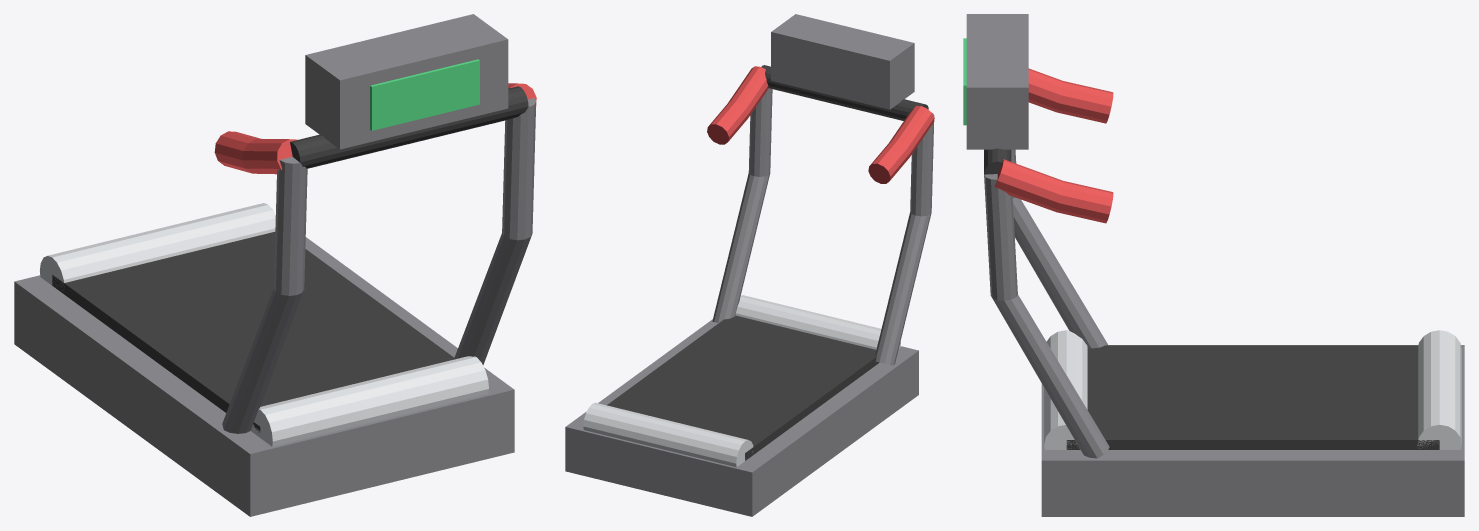
The model's file is Treadmill.fbx.
3 renders of one model, left to right at view 1: azimuth 30°, elevation 25°; view 2: azimuth 150°, elevation 25°; view 3: azimuth 270°, elevation 25°, orthographic. The views are drawn at different scales.
Parts seen in each view (by area): view 1: Base, Belt, Console, RollerFront, Upright, Upright.001, RollerBack, Screen, Crossbar, SideGrip; view 2: Base, Belt, Console, Upright, RollerBack, Upright.001, RollerFront, SideGrip, SideGrip.001, Crossbar; view 3: Belt, Base, Console, Upright.001, RollerBack, Upright, SideGrip.001, RollerFront, SideGrip, Crossbar.
Part boxes in pixels (x1,y1,x2,y2): Base: [14, 237, 514, 516]; Belt: [52, 232, 454, 432]; Console: [305, 14, 508, 149]; RollerFront: [250, 356, 488, 446]; Upright: [222, 157, 307, 433]; Upright.001: [454, 98, 536, 365]; RollerBack: [40, 203, 275, 290]; Screen: [370, 59, 479, 130]; Crossbar: [290, 86, 528, 168]; SideGrip: [214, 131, 297, 174]; Base: [565, 319, 918, 516]; Belt: [607, 315, 879, 460]; Console: [771, 14, 914, 109]; Upright: [875, 113, 934, 365]; RollerBack: [583, 402, 753, 467]; Upright.001: [712, 88, 772, 322]; RollerFront: [735, 295, 900, 349]; SideGrip: [868, 105, 934, 183]; SideGrip.001: [707, 66, 768, 144]; Crossbar: [761, 65, 928, 120]; Belt: [1066, 345, 1439, 449]; Base: [1041, 345, 1464, 516]; Console: [966, 14, 1028, 149]; Upright.001: [984, 174, 1109, 458]; RollerBack: [1417, 330, 1461, 449]; Upright: [1011, 149, 1108, 348]; SideGrip.001: [994, 159, 1113, 223]; RollerFront: [1044, 330, 1087, 449]; SideGrip: [1028, 68, 1113, 123]; Crossbar: [984, 148, 1011, 174].
Size of the model in its own units: 44 by 72.45 by 80.57.
